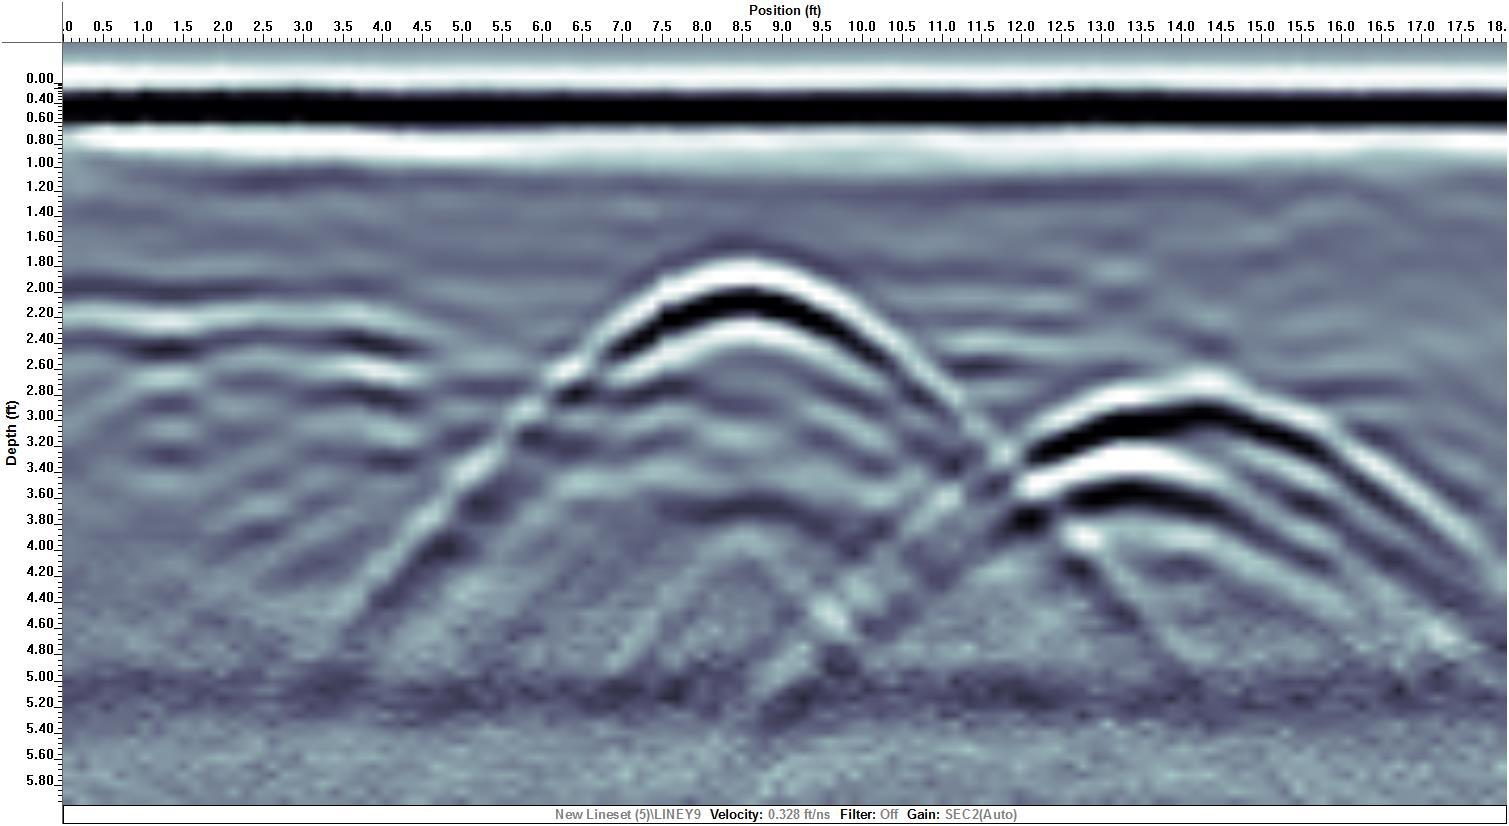hyperbola: (985, 349, 1494, 616), (518, 226, 980, 432)
